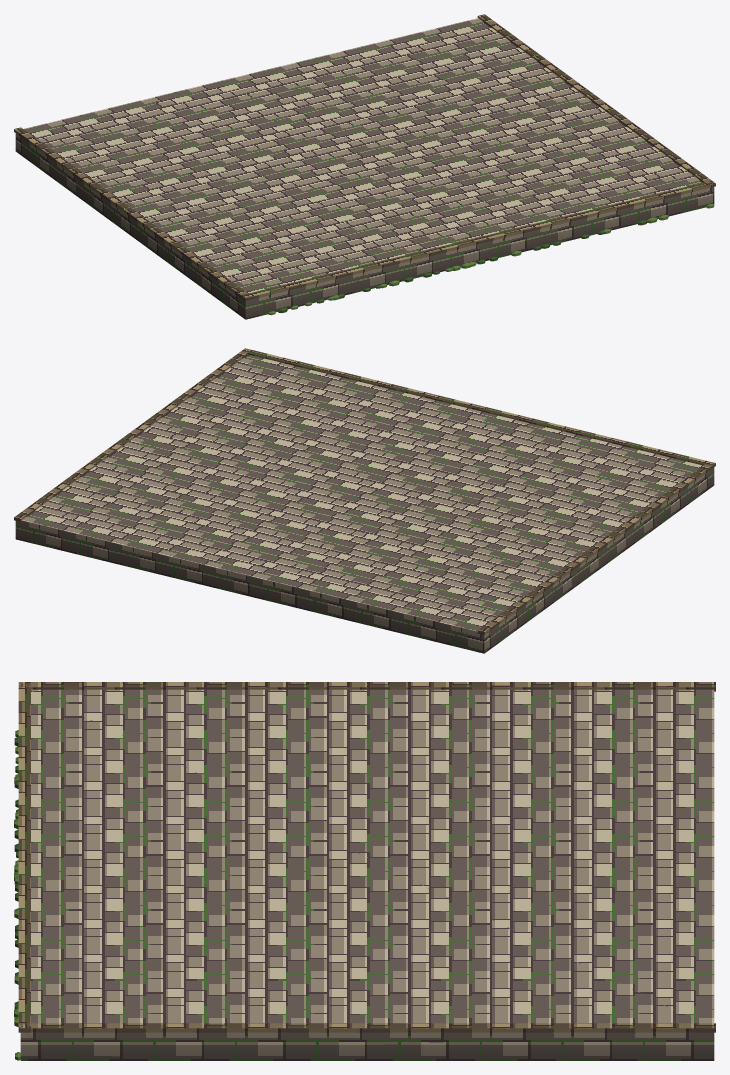
The model's file is scene_wall_s.glb.
3 views of the same model, one above another, from view 1: azimuth 30°, elevation 25°; view 2: azimuth 150°, elevation 25°; view 3: azimuth 270°, elevation 25° (orthographic). The views are drawn at different scales.
Parts seen in each view (by area): view 1: scene_wall_s; view 2: scene_wall_s; view 3: scene_wall_s.
Boxes of the visible parts, box(x1,y1,x2,y2) form: scene_wall_s: box(14, 14, 715, 319); scene_wall_s: box(14, 348, 715, 653); scene_wall_s: box(14, 682, 715, 1060).
Bounding box in the file's own units: 24.1 × 1.17 × 20.64.
Materials: 2 (1 with a texture image).
